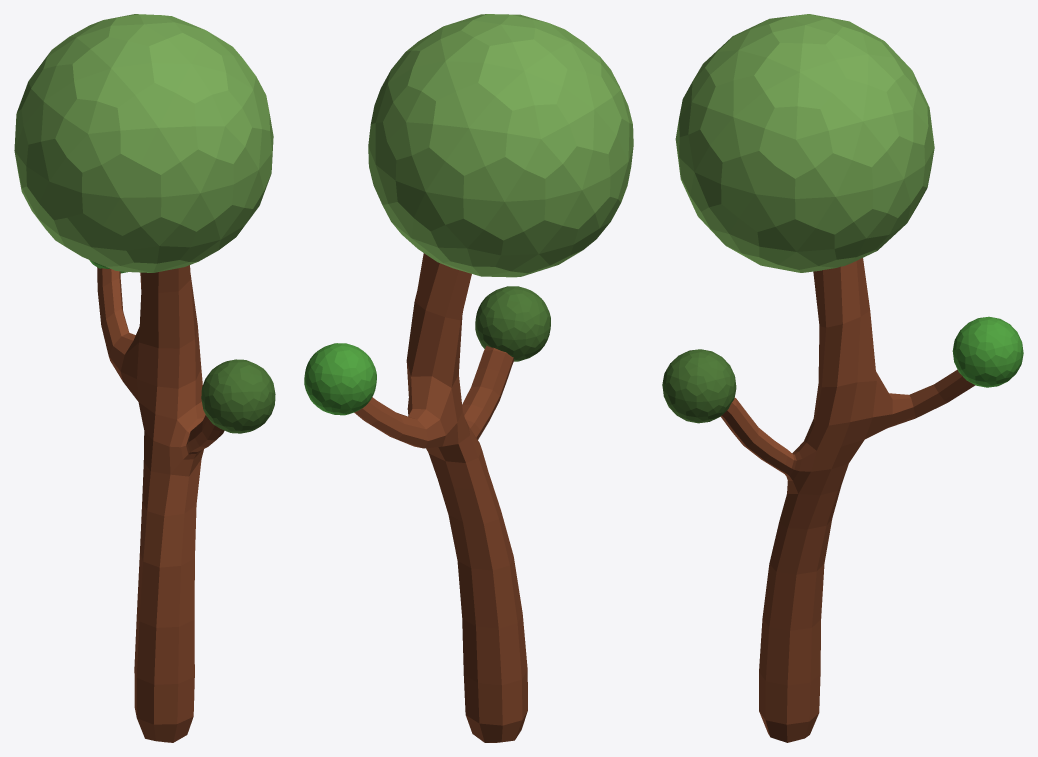
The model's file is tree6.fbx.
3 views of the same model, side by side, from view 1: azimuth 30°, elevation 25°; view 2: azimuth 150°, elevation 25°; view 3: azimuth 270°, elevation 25° (orthographic). The views are drawn at different scales.
Parts seen in each view (by area): view 1: Tree6; view 2: Tree6; view 3: Tree6.
Boxes of the visible parts, bbox=[...] form: Tree6: bbox=[14, 14, 275, 742]; Tree6: bbox=[304, 14, 633, 742]; Tree6: bbox=[662, 14, 1023, 742].
Size of the model in its own units: 210 by 638 by 294.
